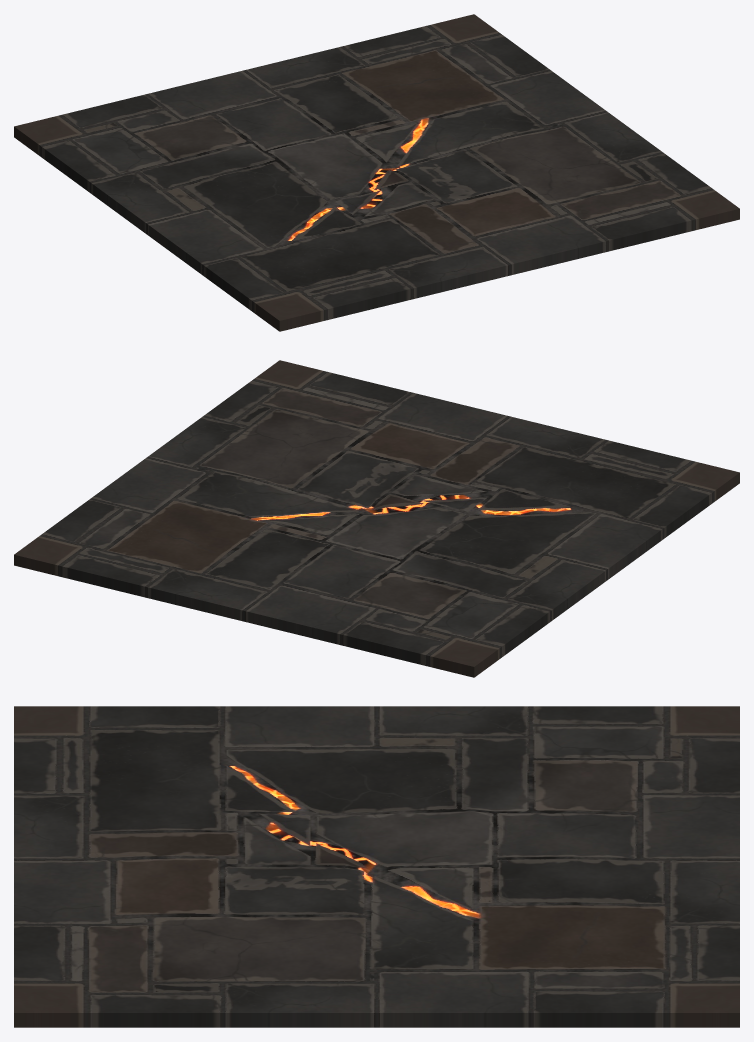
File: hellforge_floor_b.glb
3 renders of one model, top to bottom at view 1: azimuth 30°, elevation 25°; view 2: azimuth 150°, elevation 25°; view 3: azimuth 270°, elevation 25°, orthographic. The views are drawn at different scales.
Parts seen in each view (by area): view 1: hellforge_floor_b; view 2: hellforge_floor_b; view 3: hellforge_floor_b.
Boxes of the visible parts, x1,y1,x2,y2 form: hellforge_floor_b: (14, 14, 739, 331); hellforge_floor_b: (14, 360, 739, 677); hellforge_floor_b: (14, 706, 739, 1027).
Bounding box in the file's own units: 4 × 0.1138 × 4.
Materials: 1 (1 with a texture image).
